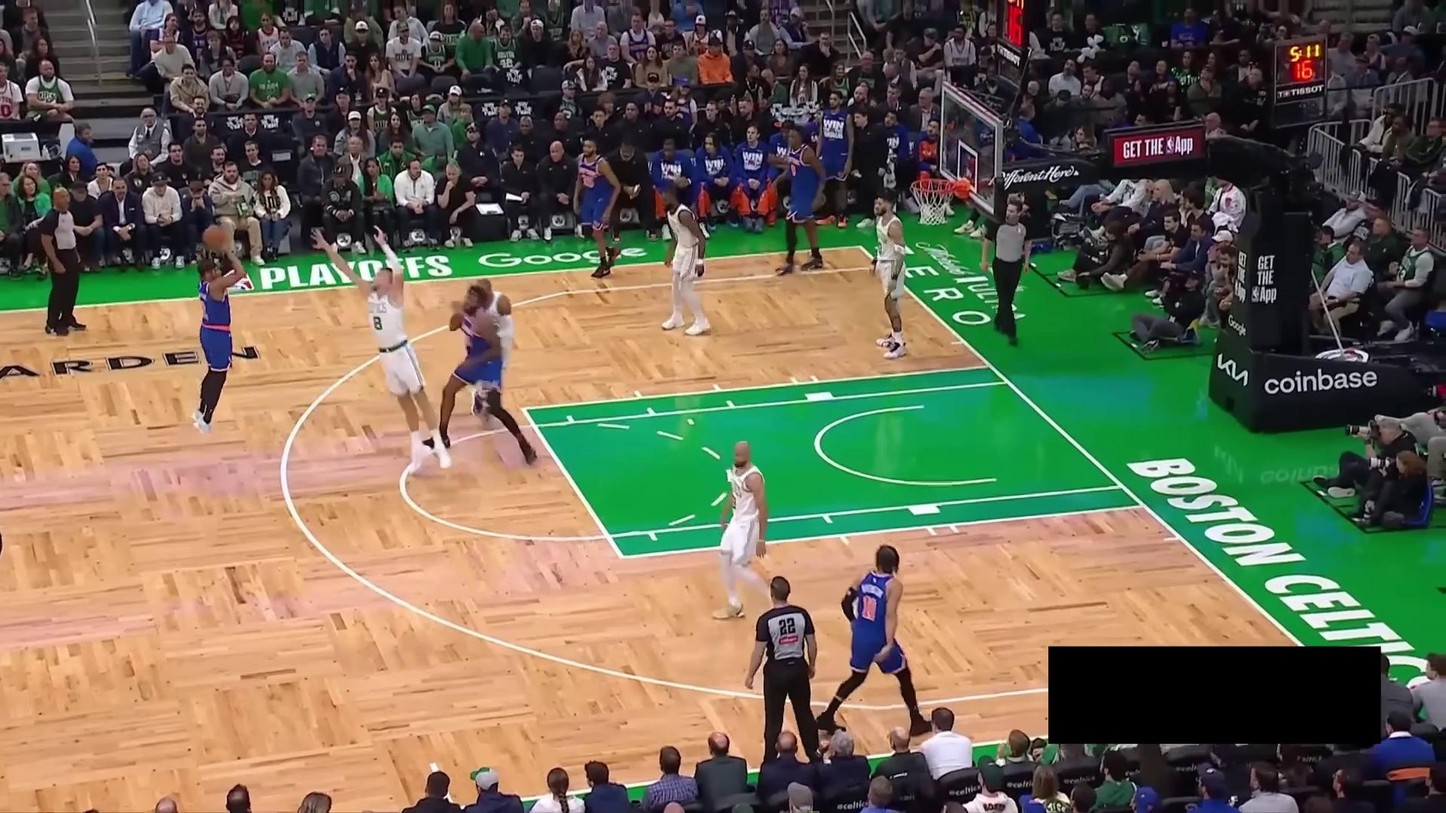ball: (202, 223, 229, 251)
number: (859, 594, 877, 623), (372, 315, 383, 331), (790, 163, 797, 176)
player: (816, 543, 933, 740), (421, 282, 538, 465), (709, 440, 773, 620), (773, 123, 828, 276), (657, 184, 712, 336), (572, 136, 623, 279), (470, 277, 515, 432), (868, 190, 909, 360)
player-jump-shot: (189, 221, 247, 436)
player-shot-block: (310, 226, 452, 477)
referee: (746, 576, 817, 768), (980, 196, 1034, 346), (39, 187, 93, 336)
rim: (909, 177, 956, 194)
